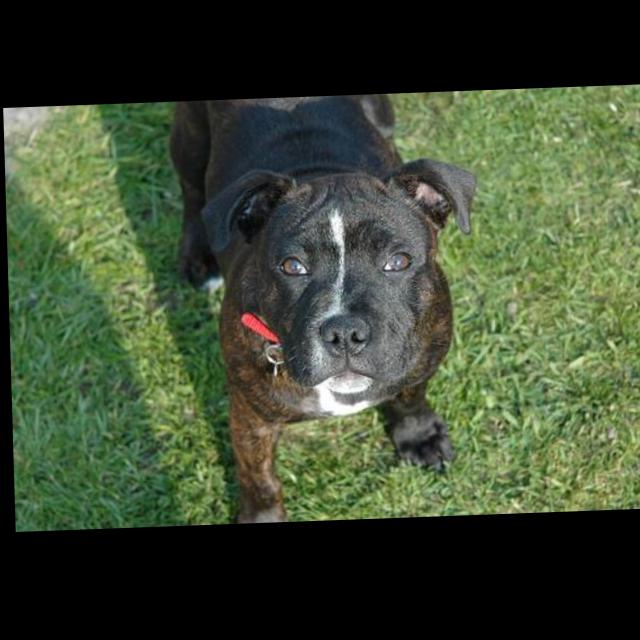amstaff: (167, 96, 484, 528)
